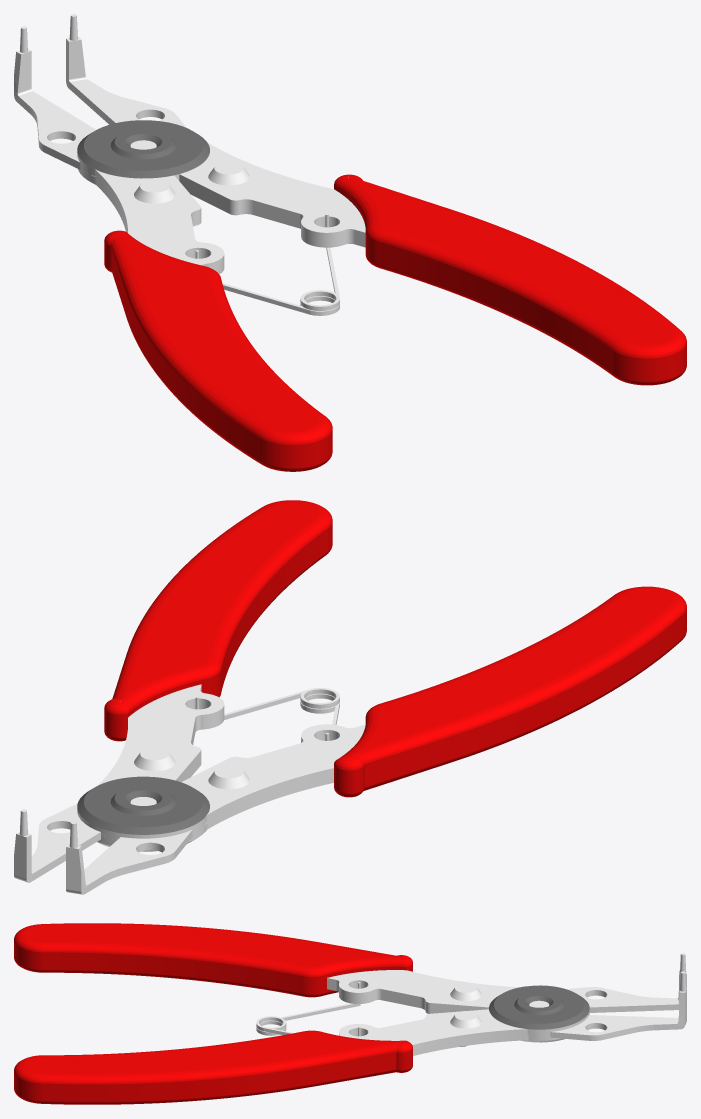
File: plier1.dae
3 views of the same model, one above another, from view 1: azimuth 30°, elevation 25°; view 2: azimuth 150°, elevation 25°; view 3: azimuth 270°, elevation 25° (orthographic). The views are drawn at different scales.
Visible parts, largest first — view 1: group_2 (×6), group_1 (×6), Component_2 (×2); view 2: group_1 (×7), group_2 (×5), Component_2; view 3: group_1 (×8), group_2 (×5), Component_2 (×2).
Boxes of the visible parts, x1=… form: group_2 (×6): x1=14, y1=26, x2=686, y2=385; group_1 (×6): x1=66, y1=14, x2=332, y2=471; Component_2 (×2): x1=195, y1=213, x2=339, y2=315; group_1 (×7): x1=14, y1=586, x2=686, y2=882; group_2 (×5): x1=66, y1=500, x2=332, y2=894; Component_2: x1=195, y1=688, x2=339, y2=719; group_1 (×8): x1=14, y1=923, x2=686, y2=1040; group_2 (×5): x1=14, y1=953, x2=686, y2=1104; Component_2 (×2): x1=256, y1=982, x2=360, y2=1036.
Bounding box in the file's own units: 3.01 × 5.4 × 0.5869.
